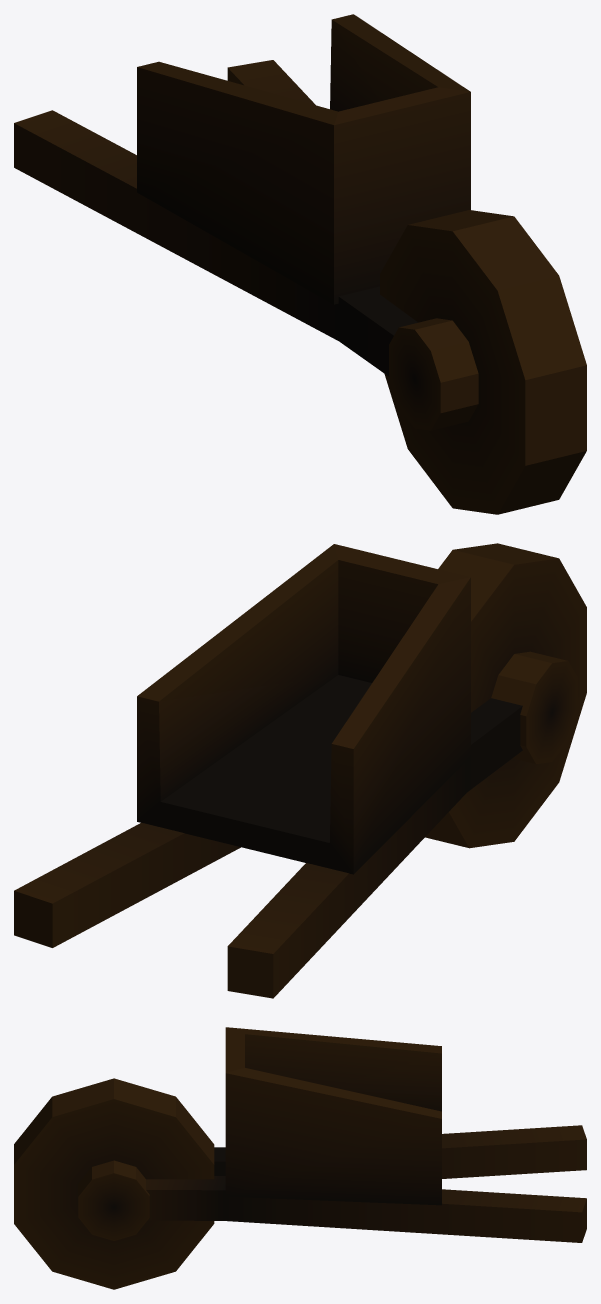
File: cart01.fbx
The picture shows the model from 3 angles, top to bottom: view 1: azimuth 30°, elevation 25°; view 2: azimuth 150°, elevation 25°; view 3: azimuth 270°, elevation 25°; orthographic projection. The views are drawn at different scales.
Visible parts, largest first — view 1: Cart01; view 2: Cart01; view 3: Cart01.
Part boxes in pixels (x1,y1,x2,y2): Cart01: [14, 14, 586, 514]; Cart01: [14, 543, 586, 998]; Cart01: [14, 1027, 586, 1289].
Bounding box in the file's own units: 0.7196 × 0.883 × 2.
